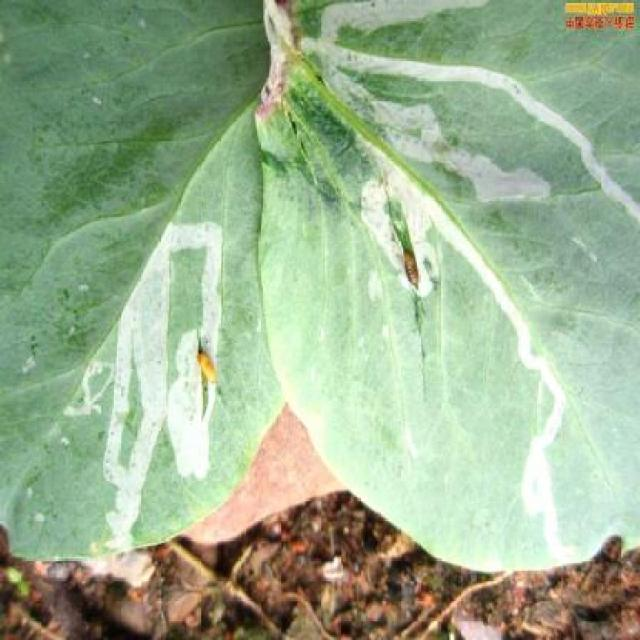whorl-maggot: (189, 338, 226, 392), (400, 240, 425, 298)
